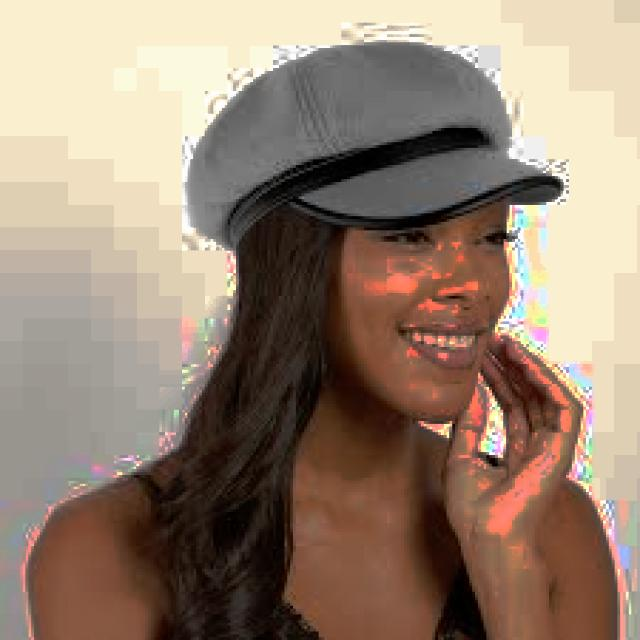TOPI: (176, 28, 566, 245)
